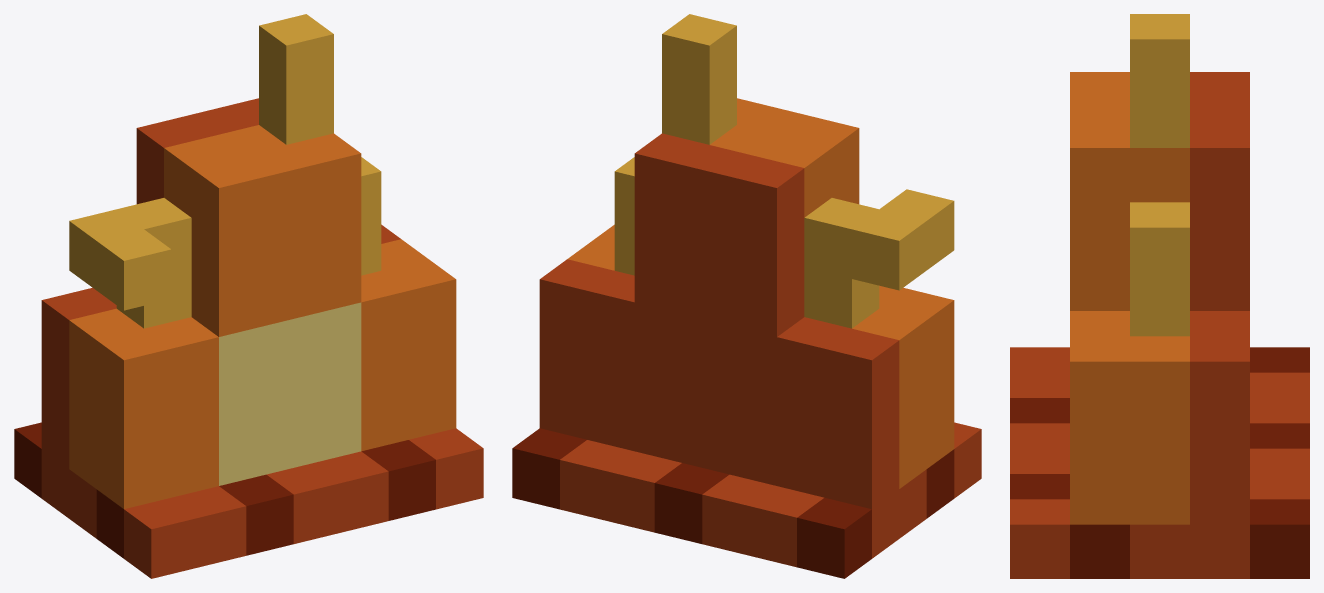
Rendered from flame_00.glb.
3 renders of one model, left to right at view 1: azimuth 30°, elevation 25°; view 2: azimuth 150°, elevation 25°; view 3: azimuth 270°, elevation 25°, orthographic. The views are drawn at different scales.
Parts seen in each view (by area): view 1: flame_00; view 2: flame_00; view 3: flame_00.
Part boxes in pixels (x1,y1,x2,y2): flame_00: (14,14,483,578); flame_00: (512,14,981,578); flame_00: (1010,14,1309,578).
Size of the model in its own units: 0.875 by 1.12 by 0.625.
